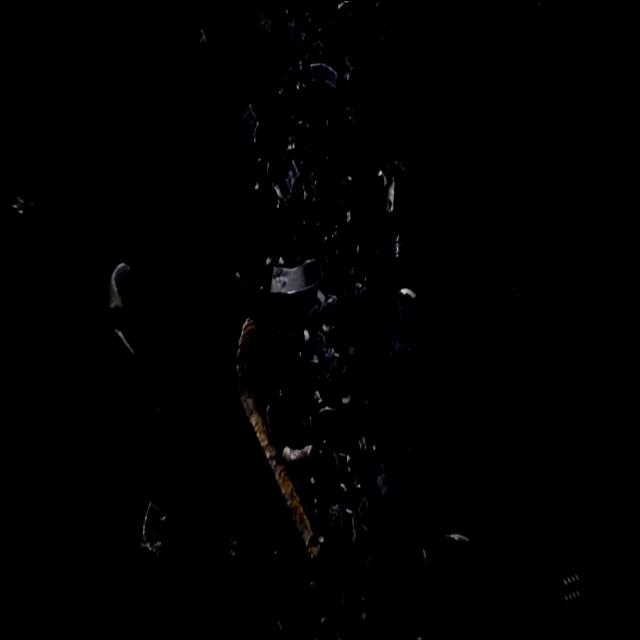large_debris: (232, 304, 309, 578), (95, 238, 143, 360), (139, 479, 181, 564), (257, 152, 312, 209), (330, 490, 374, 558), (270, 254, 330, 302), (394, 278, 422, 375), (379, 154, 410, 232), (302, 56, 346, 103), (316, 331, 349, 389), (558, 559, 591, 613), (310, 279, 342, 326), (310, 388, 339, 434), (333, 0, 378, 26), (375, 466, 396, 518), (241, 88, 260, 142), (448, 521, 476, 555), (356, 424, 376, 468)
